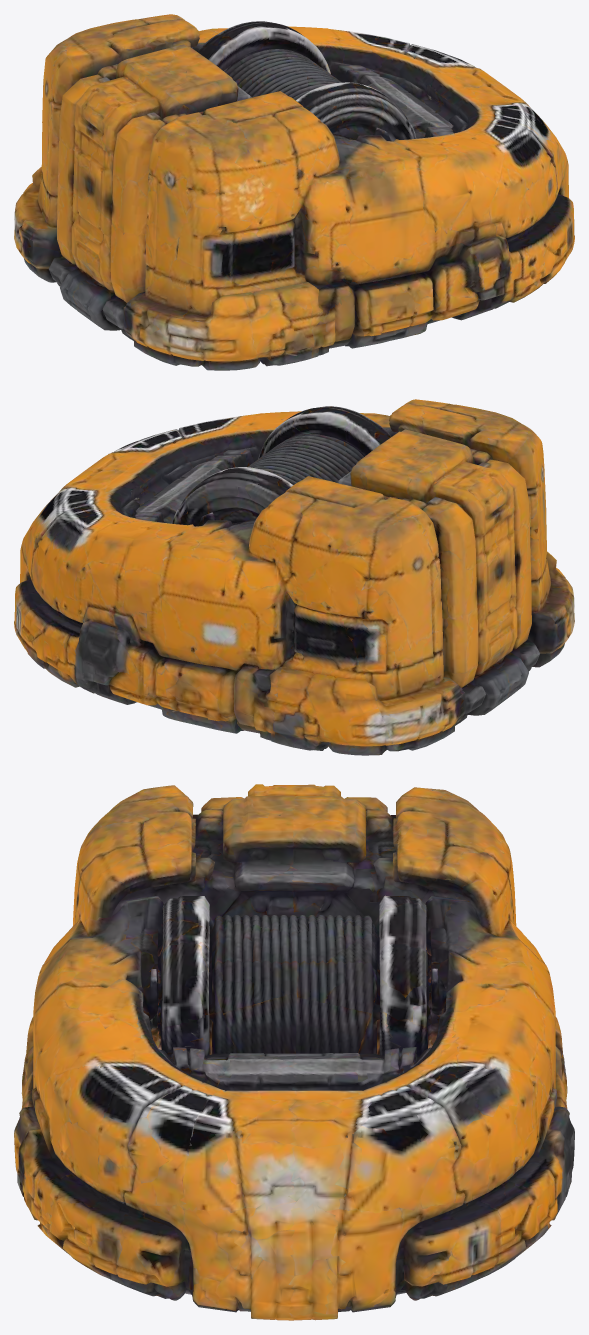
The model's file is arc-towline-lean.glb.
The picture shows the model from 3 angles, top to bottom: view 1: azimuth 30°, elevation 25°; view 2: azimuth 150°, elevation 25°; view 3: azimuth 270°, elevation 25°; orthographic projection. The views are drawn at different scales.
Visible parts, largest first — view 1: chassis; view 2: chassis; view 3: chassis.
Part boxes in pixels (bbox=[...]): chassis: bbox=[14, 14, 574, 370]; chassis: bbox=[14, 399, 574, 755]; chassis: bbox=[14, 784, 574, 1320].
Bounding box in the file's own units: 0.9897 × 0.467 × 0.8097.
Materials: 1 (1 with a texture image).
